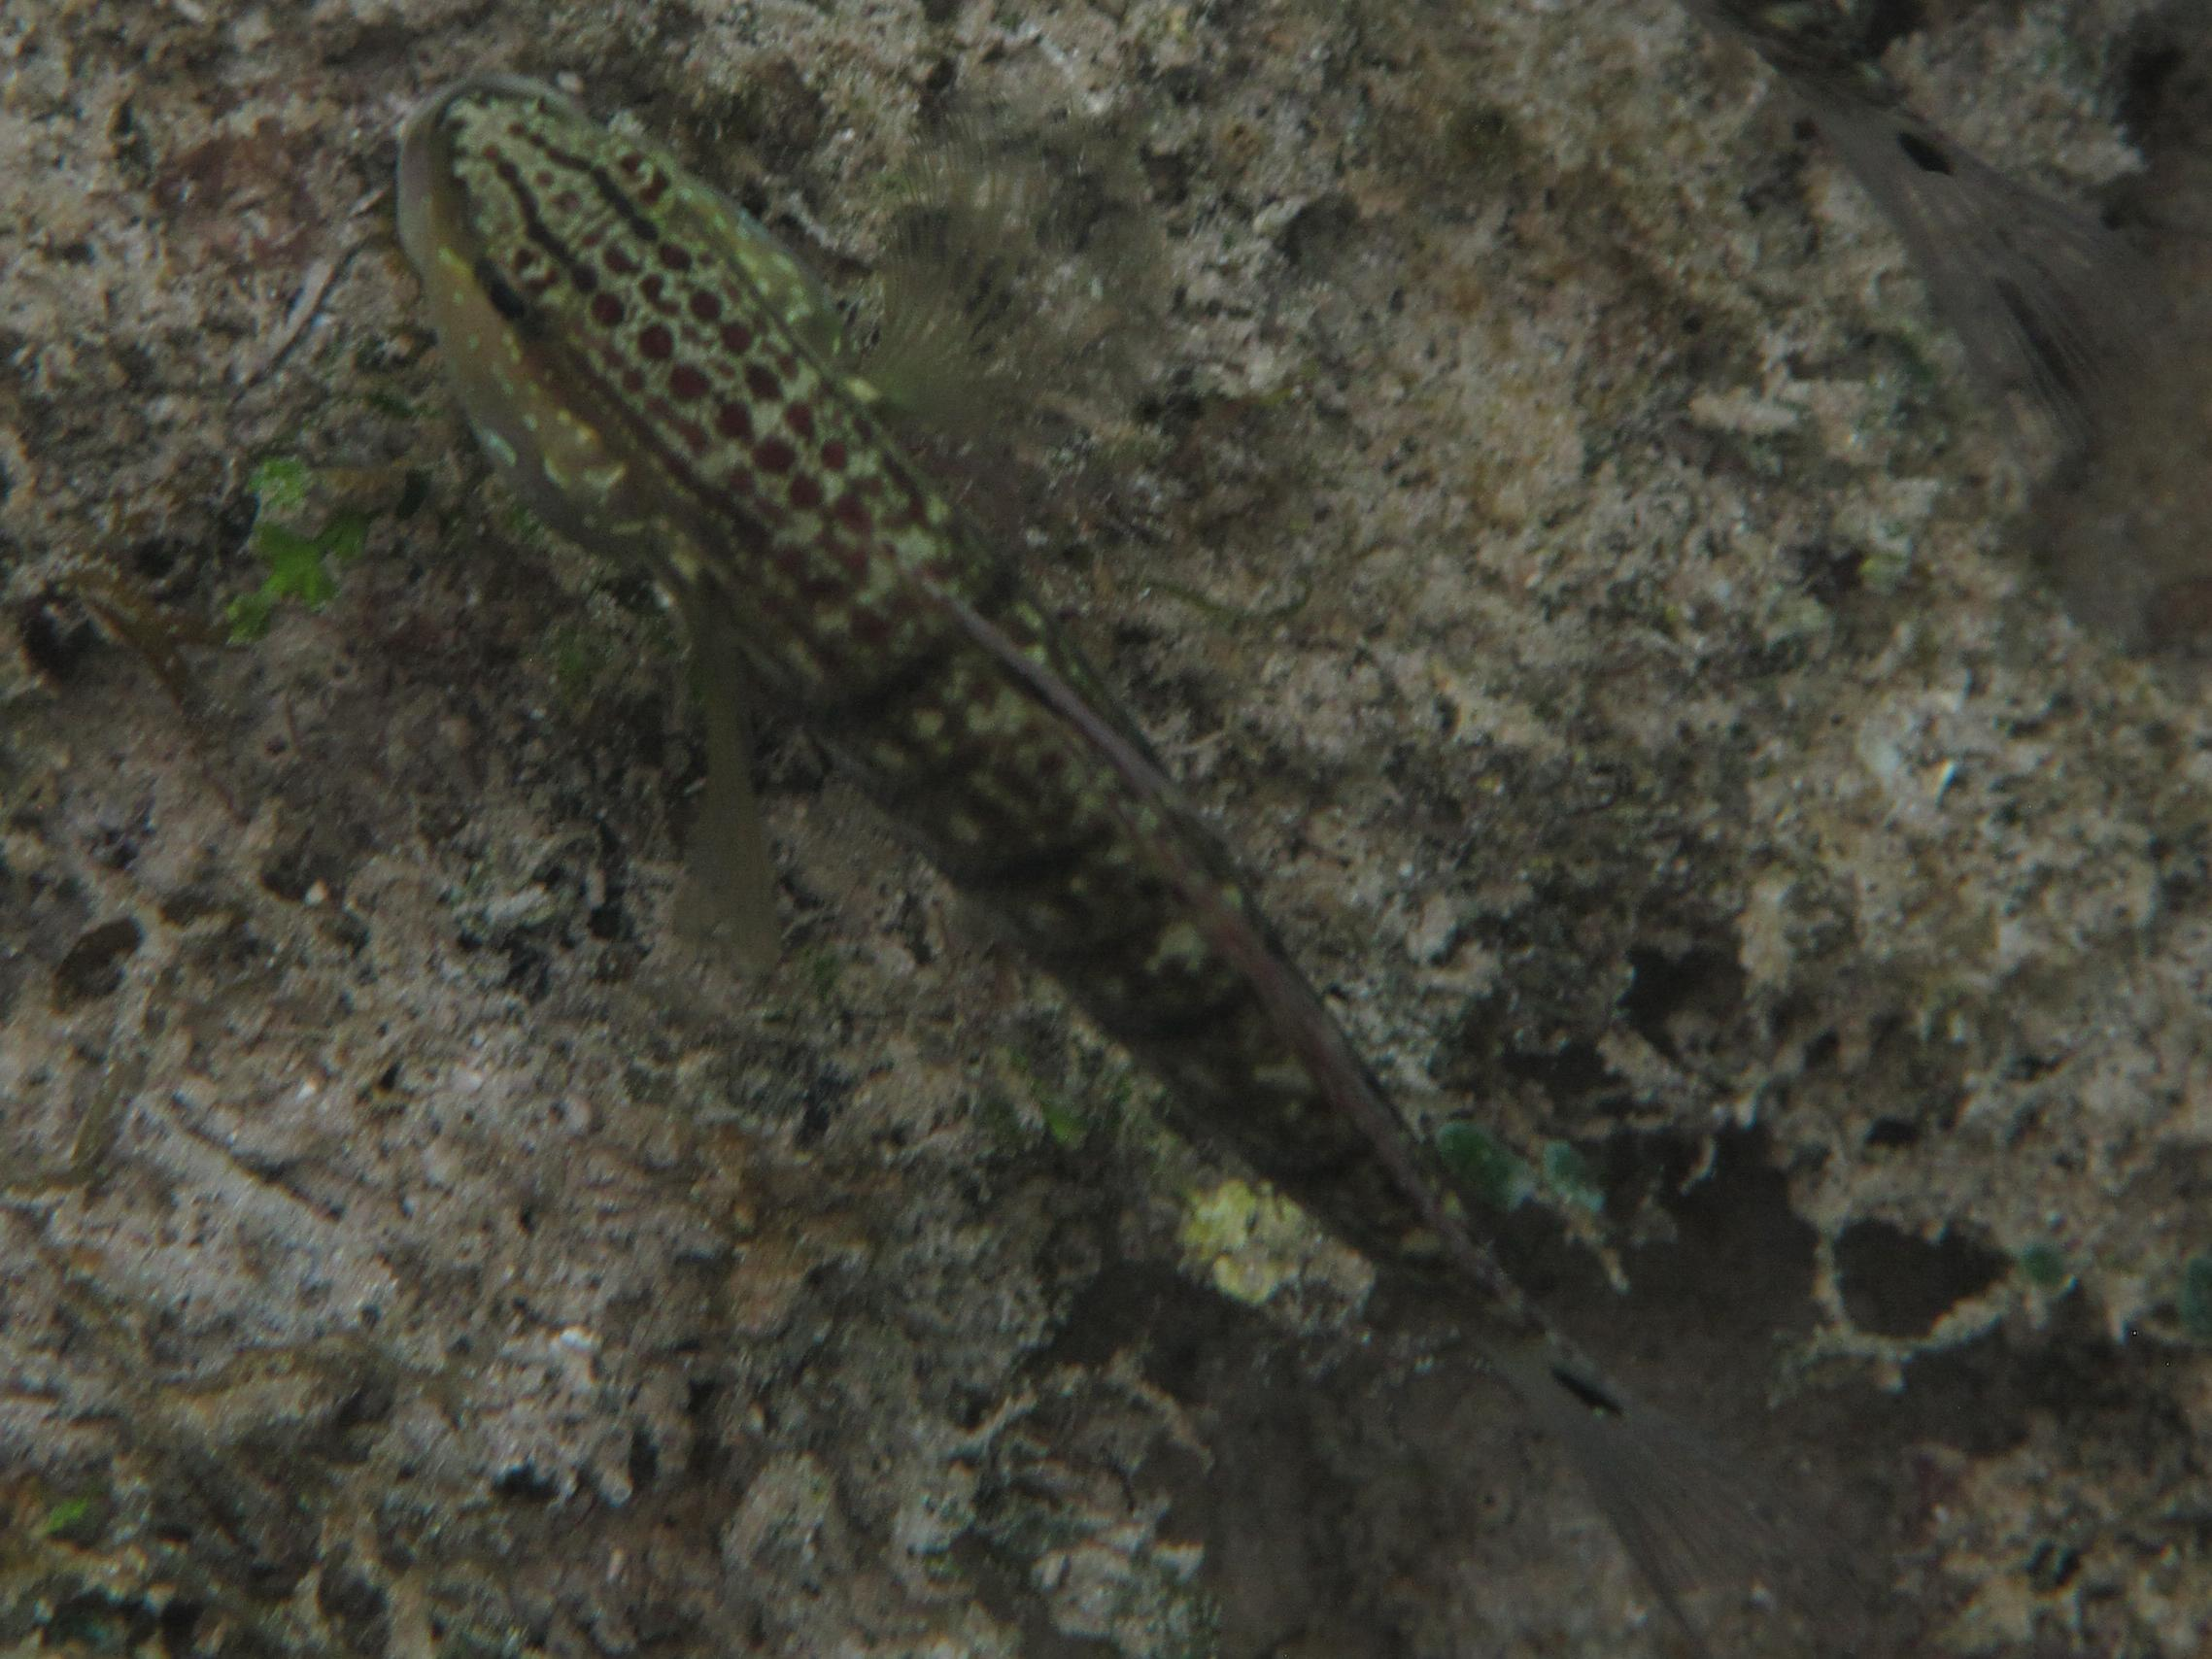Fish: (180, 52, 2001, 1659)
